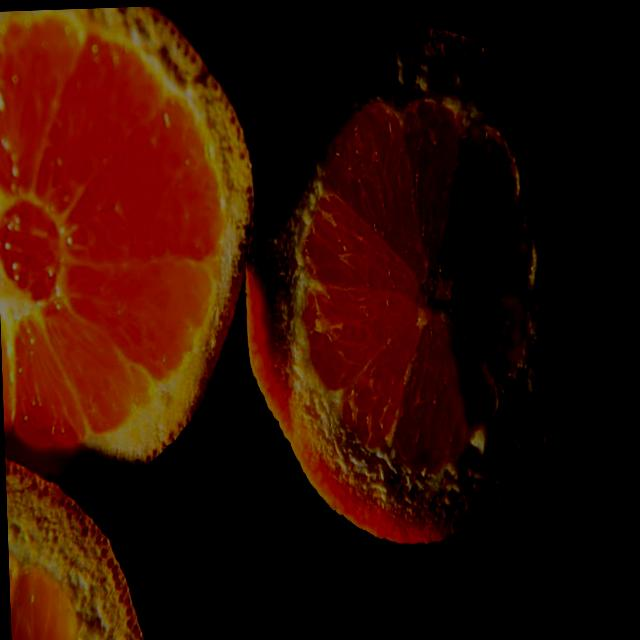Orange: (234, 21, 590, 554), (0, 3, 265, 495), (4, 454, 144, 640)
